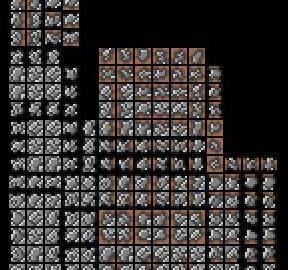stone: (260, 244, 278, 262), (260, 208, 278, 226), (260, 172, 278, 190), (260, 190, 278, 208), (152, 64, 170, 82), (116, 64, 134, 82), (134, 64, 152, 82), (134, 82, 152, 100), (116, 82, 134, 100), (98, 100, 116, 118), (116, 100, 134, 118), (98, 118, 116, 136), (134, 118, 152, 136), (134, 136, 152, 154), (134, 190, 152, 208), (134, 208, 152, 226), (134, 244, 152, 262), (116, 244, 134, 262), (116, 208, 134, 226), (98, 244, 116, 262), (80, 208, 98, 226), (80, 190, 98, 208), (80, 118, 98, 136), (62, 244, 80, 262), (62, 208, 80, 226), (62, 190, 80, 208), (62, 136, 80, 154), (62, 118, 80, 136), (62, 100, 80, 118), (62, 82, 80, 100), (44, 244, 62, 262), (44, 226, 62, 244), (44, 208, 62, 226), (44, 118, 62, 136), (26, 64, 44, 82), (26, 82, 44, 100), (26, 118, 44, 136), (26, 136, 44, 154), (26, 244, 44, 262), (260, 226, 278, 243), (260, 155, 278, 172), (243, 244, 260, 262), (243, 208, 260, 226), (243, 190, 260, 208), (225, 190, 242, 208), (225, 208, 242, 226), (225, 244, 242, 262), (206, 244, 223, 262), (207, 226, 224, 244), (207, 208, 224, 226), (207, 190, 224, 208), (207, 118, 224, 136), (207, 100, 224, 118), (207, 82, 224, 100), (207, 64, 224, 82), (189, 244, 206, 262), (171, 244, 188, 262), (153, 244, 170, 262), (153, 226, 170, 244), (189, 208, 206, 226), (171, 208, 188, 226), (171, 190, 188, 208), (153, 190, 170, 208), (153, 208, 170, 226), (189, 190, 206, 208), (171, 154, 188, 172), (189, 118, 206, 136), (171, 118, 188, 136), (153, 118, 170, 136), (189, 100, 206, 118), (171, 100, 188, 118), (153, 100, 170, 118), (153, 82, 170, 100), (189, 82, 206, 100), (189, 64, 206, 82), (171, 82, 188, 100), (171, 64, 188, 82), (152, 46, 170, 63), (134, 46, 152, 63), (116, 46, 134, 63), (98, 46, 116, 63), (98, 65, 116, 82), (116, 118, 133, 136), (98, 137, 116, 154), (116, 137, 134, 154), (134, 155, 152, 172), (134, 173, 152, 190), (134, 226, 152, 243), (116, 226, 134, 243), (116, 190, 133, 208), (116, 155, 134, 172), (98, 155, 116, 172), (98, 173, 116, 190), (98, 190, 115, 208), (99, 208, 116, 226), (98, 226, 116, 243), (80, 244, 97, 262), (80, 226, 98, 243), (80, 173, 98, 190), (80, 155, 98, 172), (80, 137, 98, 154), (62, 173, 80, 190), (62, 155, 80, 172), (62, 64, 79, 82), (44, 190, 61, 208), (44, 172, 62, 189), (44, 136, 62, 153), (44, 100, 62, 117), (44, 82, 62, 99), (62, 29, 80, 46), (62, 11, 80, 28), (44, 11, 62, 28), (44, 28, 62, 45), (26, 29, 44, 46), (26, 46, 44, 63), (26, 100, 43, 118), (26, 155, 44, 172), (26, 173, 44, 190), (9, 136, 26, 154), (27, 208, 44, 226), (243, 155, 260, 172), (243, 173, 260, 190), (243, 226, 260, 243), (225, 155, 242, 172), (225, 173, 242, 190), (225, 226, 242, 243), (207, 173, 224, 190), (207, 154, 224, 171), (207, 137, 224, 154), (171, 226, 188, 243), (189, 226, 206, 243), (189, 173, 206, 190), (171, 173, 188, 190), (153, 173, 170, 190), (189, 155, 206, 172), (153, 155, 170, 172), (153, 137, 170, 154), (170, 137, 187, 154), (189, 137, 206, 154), (189, 46, 206, 63), (171, 46, 188, 63), (134, 101, 151, 118), (116, 173, 133, 190), (44, 64, 61, 81), (44, 47, 61, 64), (27, 10, 44, 27), (9, 11, 26, 28), (9, 29, 26, 46), (26, 191, 43, 208), (9, 155, 26, 172), (9, 208, 26, 225), (26, 226, 43, 243), (98, 83, 116, 99), (62, 227, 80, 243), (9, 118, 25, 136), (9, 190, 25, 208), (45, 155, 61, 172), (9, 47, 25, 64), (9, 64, 25, 81), (9, 83, 25, 100), (9, 100, 25, 117), (9, 226, 25, 243), (9, 244, 25, 261), (9, 173, 25, 189), (9, 261, 26, 270), (62, 0, 79, 9), (44, 0, 61, 9), (26, 0, 43, 9), (260, 262, 278, 270), (152, 262, 170, 270), (62, 262, 80, 270), (9, 0, 25, 9), (206, 262, 223, 270), (134, 262, 151, 270), (80, 262, 97, 270), (26, 262, 43, 270), (242, 263, 259, 270), (224, 263, 241, 270), (188, 263, 205, 270), (170, 263, 187, 270), (116, 263, 133, 270), (98, 263, 115, 270), (44, 263, 61, 270)
